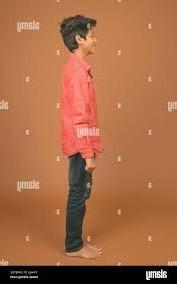Human: (49, 14, 112, 266)
